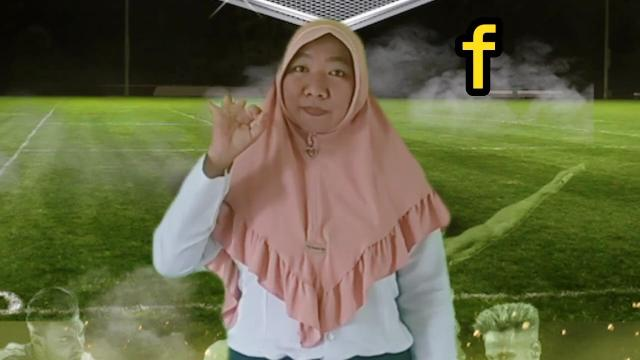F: (202, 84, 270, 162)
